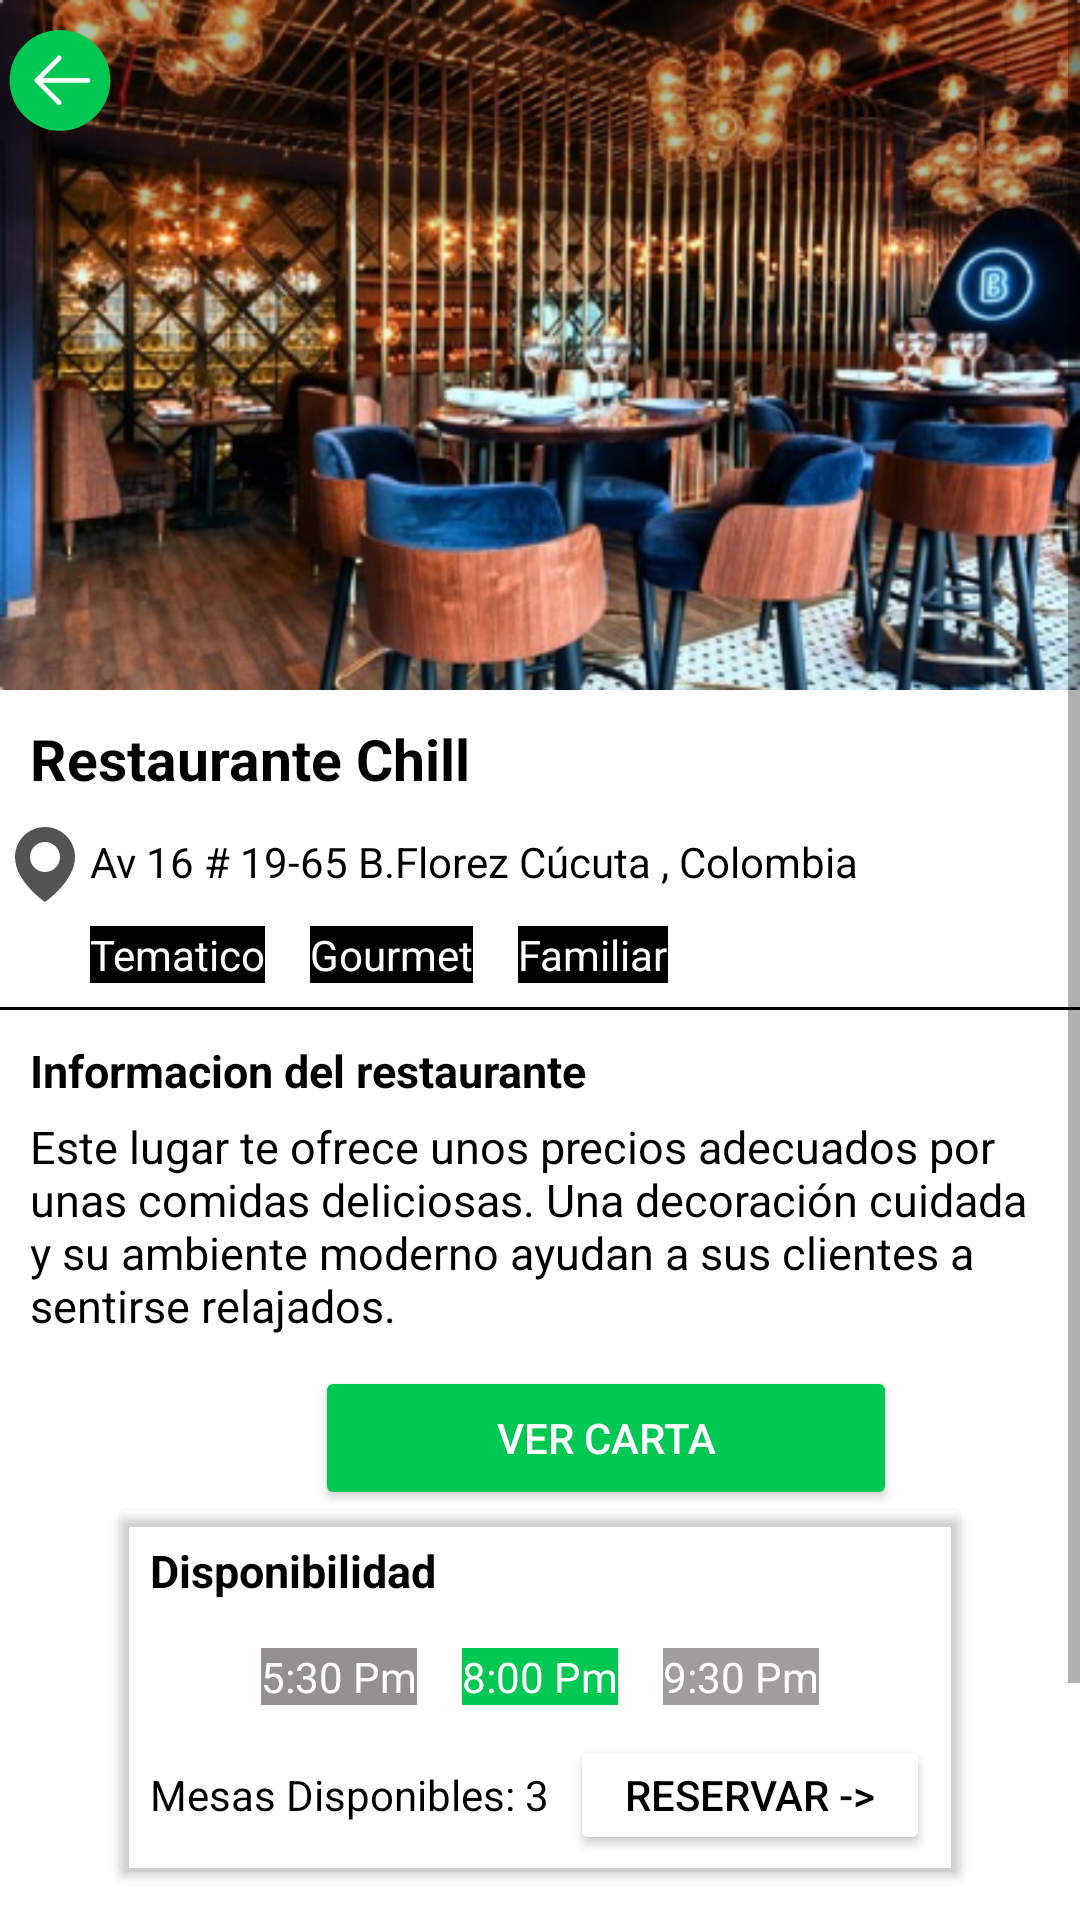

Icon click points for this 1080w x 1920h phone screenshot, format point (x, y):
regresar: point (60, 75)
